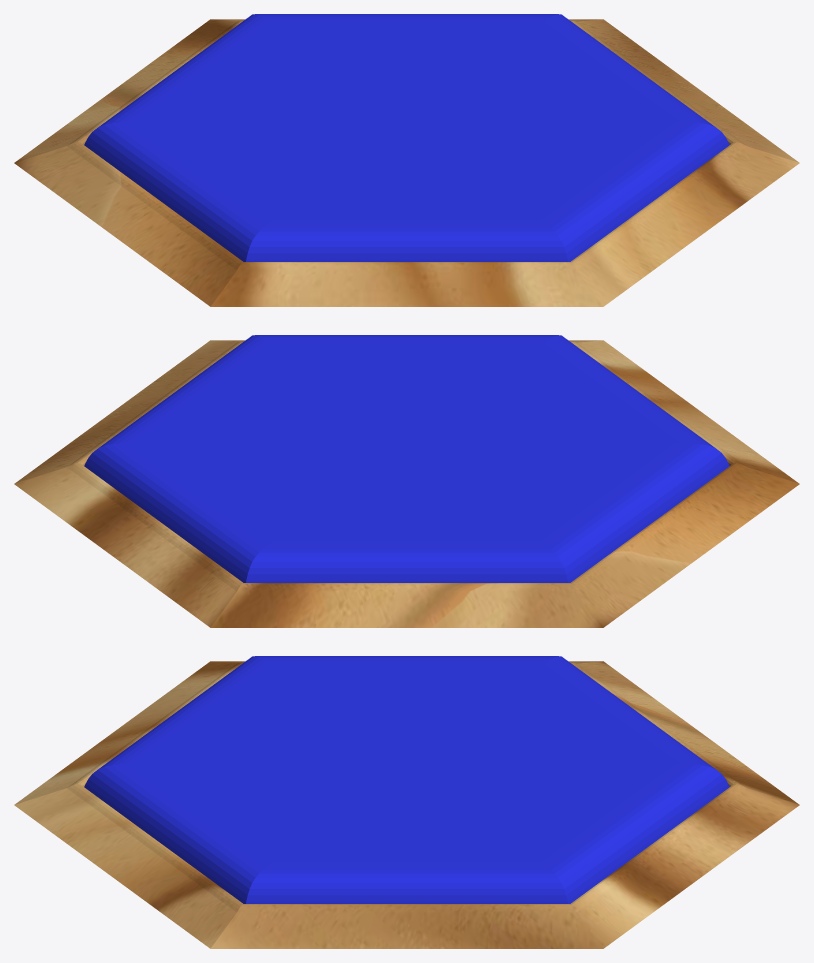
The model's file is Cell_Grass.fbx.
3 renders of one model, top to bottom at view 1: azimuth 30°, elevation 25°; view 2: azimuth 150°, elevation 25°; view 3: azimuth 270°, elevation 25°, orthographic.
Parts seen in each view (by area): view 1: Cell_main, Cell_borders_10, Cell_borders_9, Cell_borders_12, Cell_borders_7, Cell_borders_11, Cell_borders_8, Cell_borders_1, Cell_borders_6, Cell_borders_2, Cell_borders_5; view 2: Cell_main, Cell_borders_5, Cell_borders_6, Cell_borders_3, Cell_borders_8, Cell_borders_4, Cell_borders_7, Cell_borders_2, Cell_borders_9, Cell_borders_1, Cell_borders_10; view 3: Cell_main, Cell_borders_1, Cell_borders_2, Cell_borders_11, Cell_borders_4, Cell_borders_12, Cell_borders_3, Cell_borders_10, Cell_borders_5, Cell_borders_6, Cell_borders_9.
Boxes of the visible parts, x1,y1,x2,y2 form: Cell_main: (84,14,729,261); Cell_borders_10: (407,262,603,306); Cell_borders_9: (210,262,406,306); Cell_borders_12: (652,142,799,234); Cell_borders_7: (14,142,161,234); Cell_borders_11: (571,202,701,306); Cell_borders_8: (112,202,242,306); Cell_borders_1: (654,81,799,162); Cell_borders_6: (14,81,159,162); Cell_borders_2: (571,19,700,90); Cell_borders_5: (113,19,242,90); Cell_main: (84,335,729,582); Cell_borders_5: (210,583,406,627); Cell_borders_6: (407,583,603,627); Cell_borders_3: (14,463,161,555); Cell_borders_8: (652,463,799,555); Cell_borders_4: (112,523,242,627); Cell_borders_7: (571,523,701,627); Cell_borders_2: (14,402,159,483); Cell_borders_9: (654,402,799,483); Cell_borders_1: (113,340,242,411); Cell_borders_10: (571,340,700,411); Cell_main: (84,656,729,903); Cell_borders_1: (210,904,406,948); Cell_borders_2: (407,904,603,948); Cell_borders_11: (14,784,161,876); Cell_borders_4: (652,784,799,876); Cell_borders_12: (112,844,242,948); Cell_borders_3: (571,844,701,948); Cell_borders_10: (14,723,159,804); Cell_borders_5: (654,723,799,804); Cell_borders_6: (571,661,700,732); Cell_borders_9: (113,661,242,732).
Bounding box in the file's own units: 226 × 14.92 × 261.
2 materials, 1 textured.
